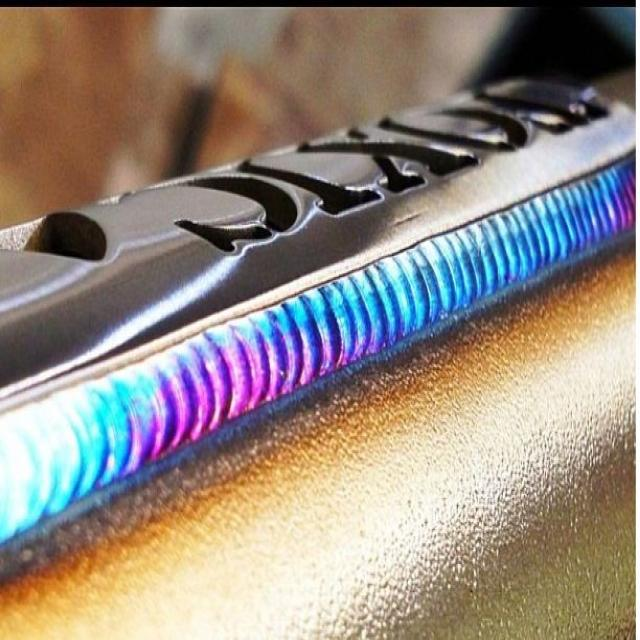Good Weld: (7, 358, 270, 476), (266, 262, 484, 371), (482, 201, 630, 274)
